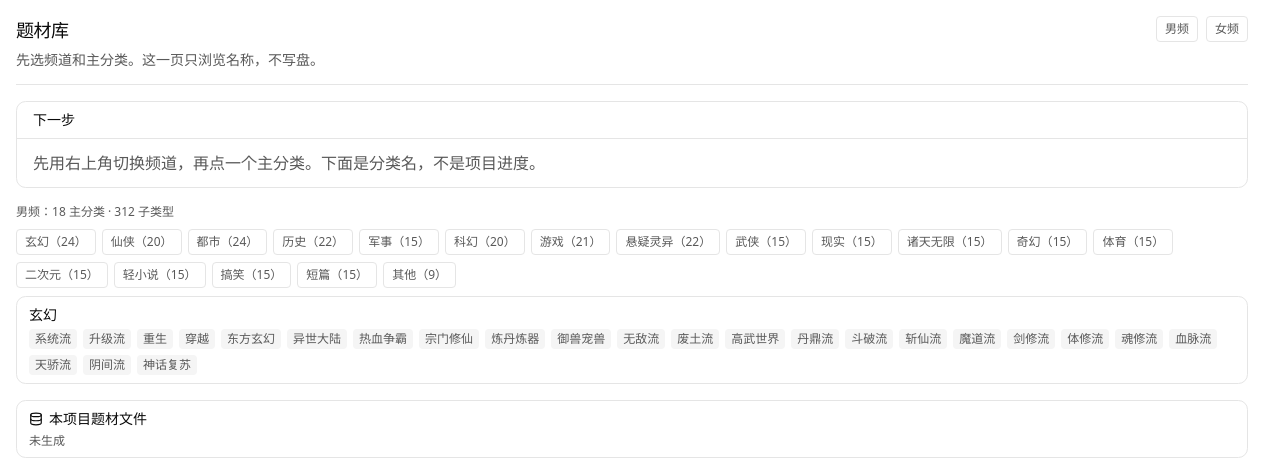
Test case: GenreLibraryView › 主分类切换 → 子类型树随选择更换，且只渲染 label
Expected: the element with test id "genre-empty" is shown, left=29, top=431, right=386, bottom=449
Click the button with test id "genre-main-xianxia". click: [142, 242]
box: left=102, top=229, right=182, bottom=255
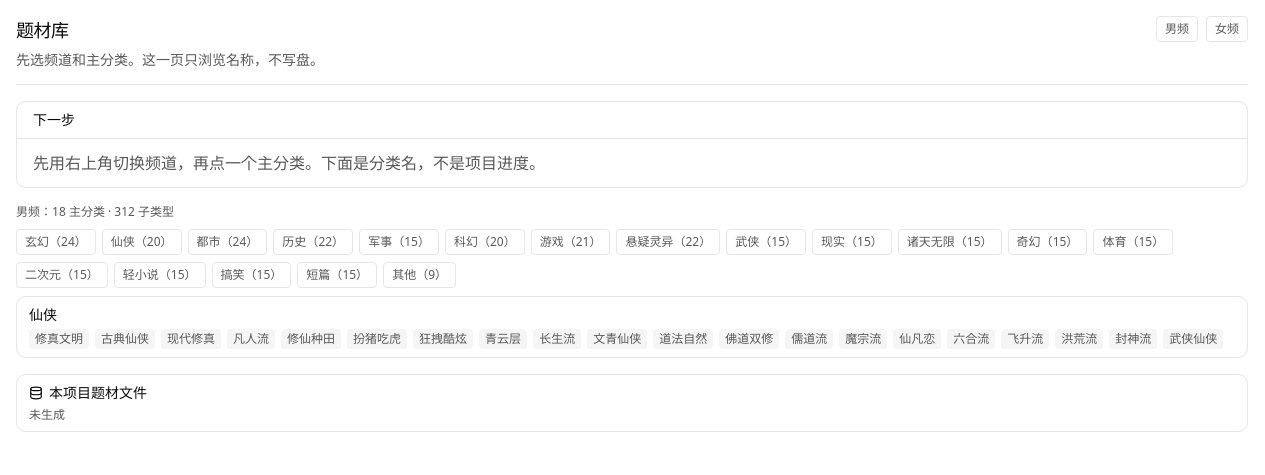
Now the list item with test id "genre-sub-xiuzhen" reads "修真文明", box left=35, top=330, right=83, bottom=347
Now the list item with test id "genre-sub-system" is gone
